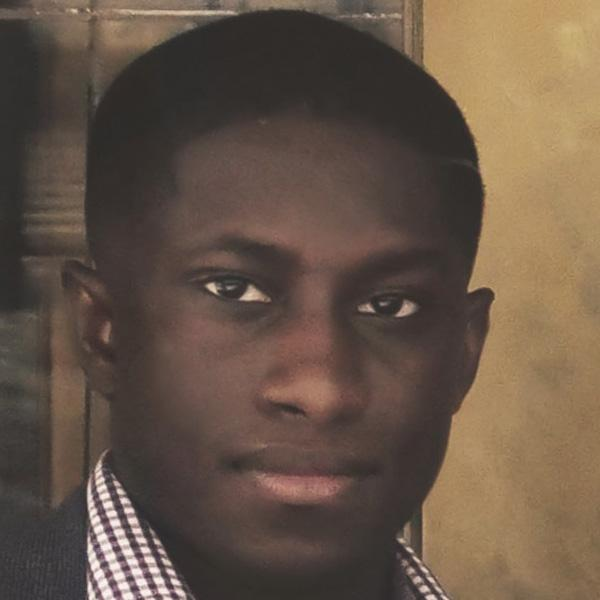Eyes: (186, 256, 278, 322), (348, 272, 431, 332)
